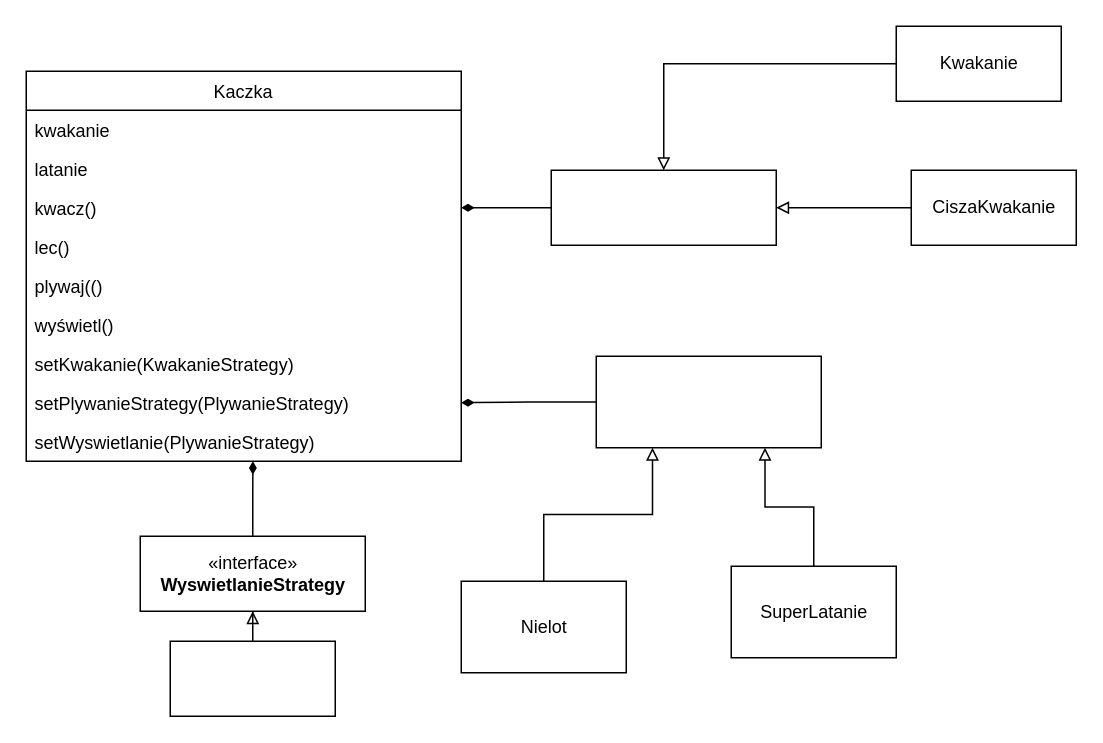
Some shapes in this 1103 by 743 pixel diagram are drawn without their labels. Each missing label, with the centre of its shape:
"DomyslnyPainter" goes at (252,678).
"«interface» KwakanieStrategy" goes at (663,207).
"«interface» LatanieStrategy" goes at (708,401).
